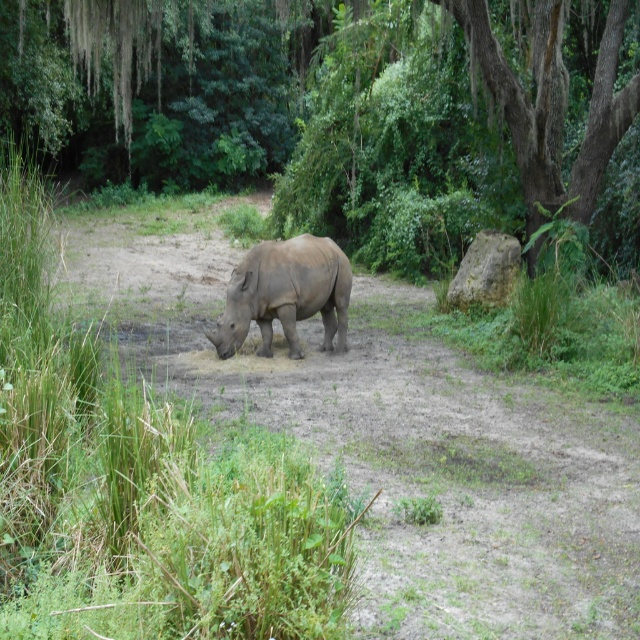Rhinoceros: (201, 233, 352, 360)
